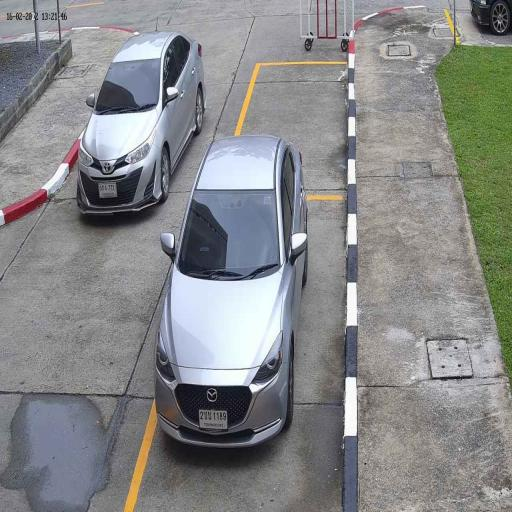car: (154, 135, 309, 450), (76, 29, 206, 220)
